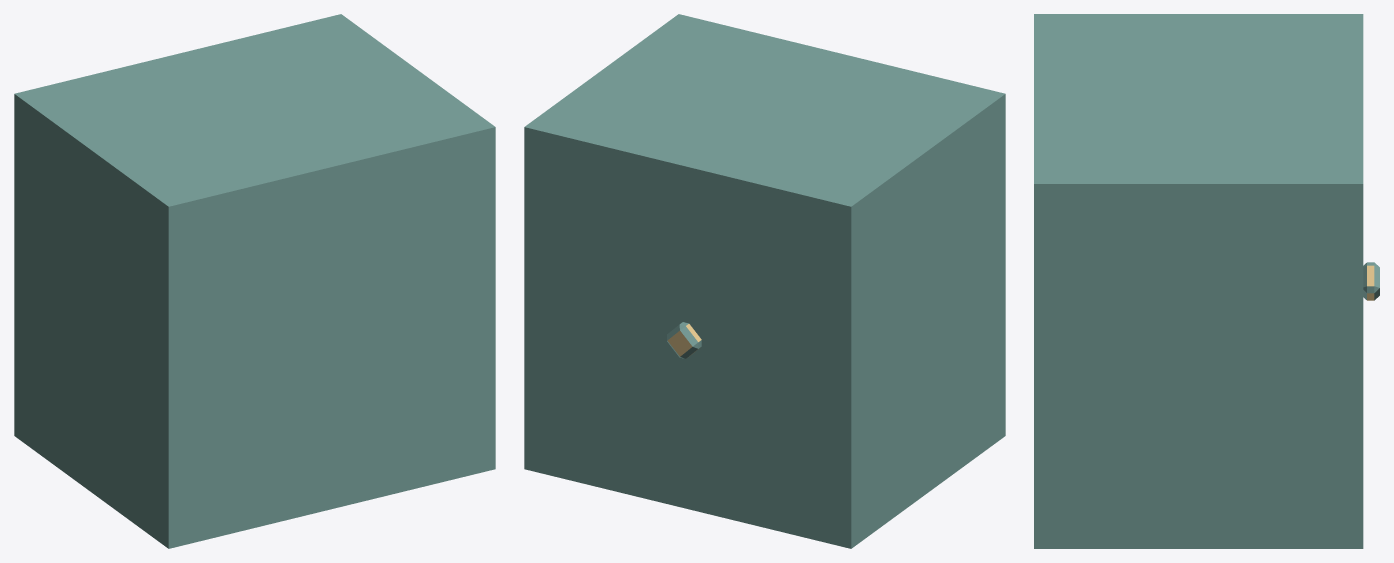
Rendered from TH_Tile_15.fbx.
3 renders of one model, left to right at view 1: azimuth 30°, elevation 25°; view 2: azimuth 150°, elevation 25°; view 3: azimuth 270°, elevation 25°, orthographic. The views are drawn at different scales.
Visible parts, largest first — view 1: TH_Tile_15; view 2: TH_Tile_15; view 3: TH_Tile_15.
Boxes of the visible parts, x1=… form: TH_Tile_15: x1=14, y1=14, x2=495, y2=548; TH_Tile_15: x1=524, y1=14, x2=1005, y2=548; TH_Tile_15: x1=1034, y1=14, x2=1379, y2=548.
Size of the model in its own units: 1.1 by 1.1 by 0.945.
